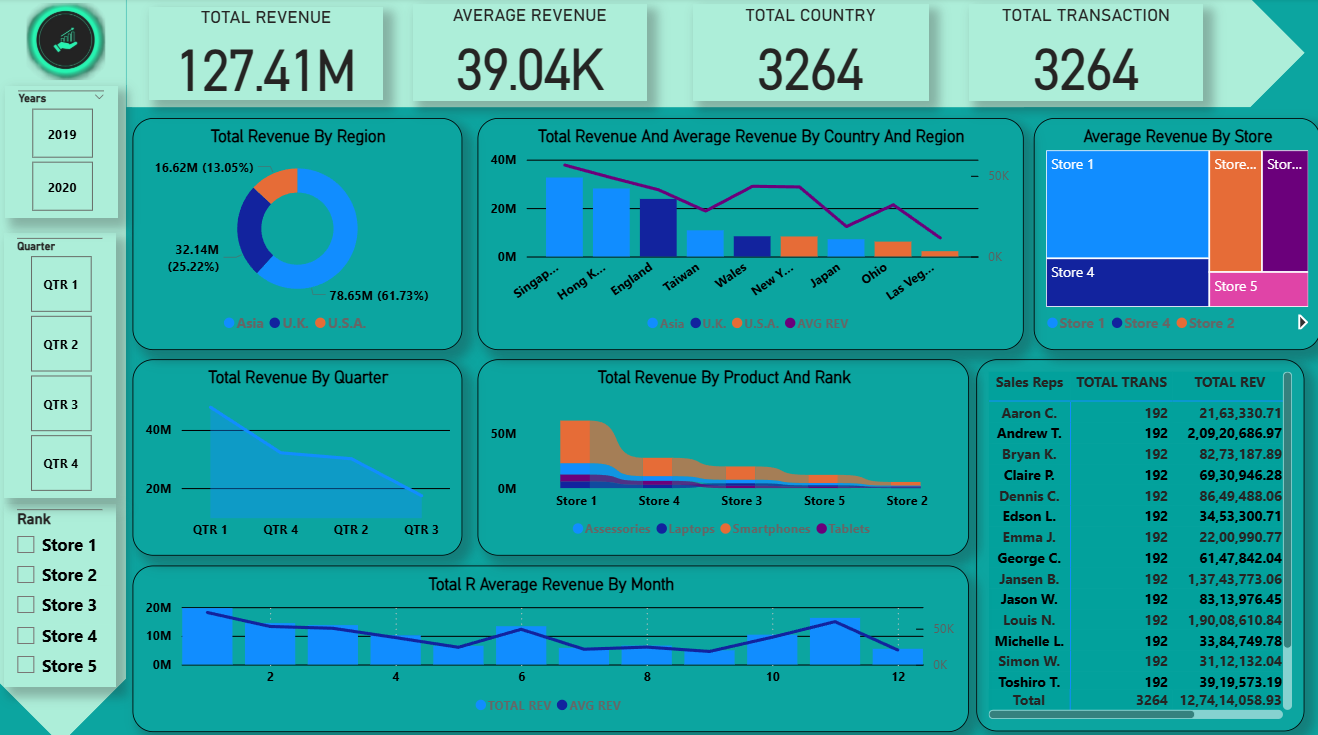

What the dashboard file says about the page in this screenshot:
{"tool":"powerbi","page":{"name":"Page 1","canvas":[1280,720],"ordinal":0},"visuals":[{"type":"shape","box":[0,0,126.7,720.2],"z":0},{"type":"shape","box":[126.2,0,1137.6,105.7],"z":1000},{"type":"card","title":"TOTAL REVENUE","fields":{"Values":["MEASURE.TOTAL REV"]},"box":[148.2,8.2,226.4,90.6],"z":2000},{"type":"card","title":"AVERAGE REVENUE","fields":{"Values":["MEASURE.AVG REV"]},"box":[403.4,5.5,226.4,93.3],"z":3000},{"type":"card","title":"TOTAL TRANSACTION","fields":{"Values":["MEASURE.TOTAL TRANS"]},"box":[940,5.5,226.4,93.3],"z":4000},{"type":"card","title":"TOTAL COUNTRY","fields":{"Values":["MEASURE.TOTAL COUNTRY"]},"box":[673.8,5.5,227.8,93.3],"z":5000},{"type":"donutChart","title":"Total Revenue By Region","fields":{"Y":["MEASURE.TOTAL REV"],"Category":["FINANCIAL.Region"]},"box":[133.1,115.3,318.4,223.7],"z":6000},{"type":"lineStackedColumnComboChart","title":"Total Revenue And Average Revenue By Country And Region","fields":{"Category":["FINANCIAL.Country"],"Y":["MEASURE.TOTAL REV"],"Y2":["MEASURE.AVG REV"],"Series":["FINANCIAL.Region"]},"box":[465.2,115.3,526.9,223.7],"z":7000},{"type":"treemap","title":"Average Revenue By Store","fields":{"Values":["MEASURE.AVG REV"],"Group":["FINANCIAL.Rank"]},"box":[1003.1,115.3,277.2,223.7],"z":8000},{"type":"areaChart","title":"Total Revenue By Quarter","fields":{"Y":["MEASURE.TOTAL REV"],"Category":["FINANCIAL.Quarter"]},"box":[133.1,348.5,318.4,189.4],"z":9000},{"type":"ribbonChart","title":"Total Revenue By Product And Rank","fields":{"Category":["FINANCIAL.Rank"],"Series":["FINANCIAL.Products"],"Y":["MEASURE.TOTAL REV"]},"box":[465.2,348.5,474.8,189.4],"z":10000},{"type":"pivotTable","fields":{"Rows":["FINANCIAL.Sales Reps"],"Values":["MEASURE.TOTAL TRANS","MEASURE.TOTAL REV","MEASURE.AVG REV"]},"box":[946.8,348.5,317,359.5],"z":11000},{"type":"lineStackedColumnComboChart","title":"Total R Average Revenue By Month","fields":{"Y":["MEASURE.TOTAL REV"],"Category":["FINANCIAL.Month"],"Y2":["MEASURE.AVG REV"]},"box":[133.1,547.5,806.9,160.5],"z":12000},{"type":"slicer","fields":{"Values":["FINANCIAL.Years"]},"box":[9.7,84.5,108.6,127.9],"z":13000},{"type":"slicer","fields":{"Values":["FINANCIAL.Quarter"]},"box":[8.4,226.8,108.6,255.8],"z":14000},{"type":"slicer","fields":{"Values":["FINANCIAL.Rank"]},"box":[8.4,488.6,108.6,176.1],"z":15000},{"type":"image","box":[9.7,0,117,84.5],"z":15001}]}

Visuals, with their boxes in screenshot pixels (x1, y1, x2, y2), scaled from the page's 1280x720 canvas onto the 1318x735 screenshot:
shape: {"left": 0, "top": 0, "right": 130, "bottom": 734}
shape: {"left": 130, "top": 0, "right": 1301, "bottom": 108}
"TOTAL REVENUE" card: {"left": 153, "top": 8, "right": 386, "bottom": 101}
"AVERAGE REVENUE" card: {"left": 415, "top": 6, "right": 648, "bottom": 101}
"TOTAL TRANSACTION" card: {"left": 968, "top": 6, "right": 1201, "bottom": 101}
"TOTAL COUNTRY" card: {"left": 694, "top": 6, "right": 928, "bottom": 101}
"Total Revenue By Region" donutChart: {"left": 137, "top": 118, "right": 465, "bottom": 346}
"Total Revenue And Average Revenue By Country And Region" lineStackedColumnComboChart: {"left": 479, "top": 118, "right": 1022, "bottom": 346}
"Average Revenue By Store" treemap: {"left": 1033, "top": 118, "right": 1317, "bottom": 346}
"Total Revenue By Quarter" areaChart: {"left": 137, "top": 356, "right": 465, "bottom": 549}
"Total Revenue By Product And Rank" ribbonChart: {"left": 479, "top": 356, "right": 968, "bottom": 549}
pivotTable - FINANCIAL.Sales Reps x MEASURE.TOTAL TRANS: {"left": 975, "top": 356, "right": 1301, "bottom": 723}
"Total R Average Revenue By Month" lineStackedColumnComboChart: {"left": 137, "top": 559, "right": 968, "bottom": 723}
slicer - FINANCIAL.Years: {"left": 10, "top": 86, "right": 122, "bottom": 217}
slicer - FINANCIAL.Quarter: {"left": 9, "top": 232, "right": 120, "bottom": 493}
slicer - FINANCIAL.Rank: {"left": 9, "top": 499, "right": 120, "bottom": 679}
image: {"left": 10, "top": 0, "right": 130, "bottom": 86}
